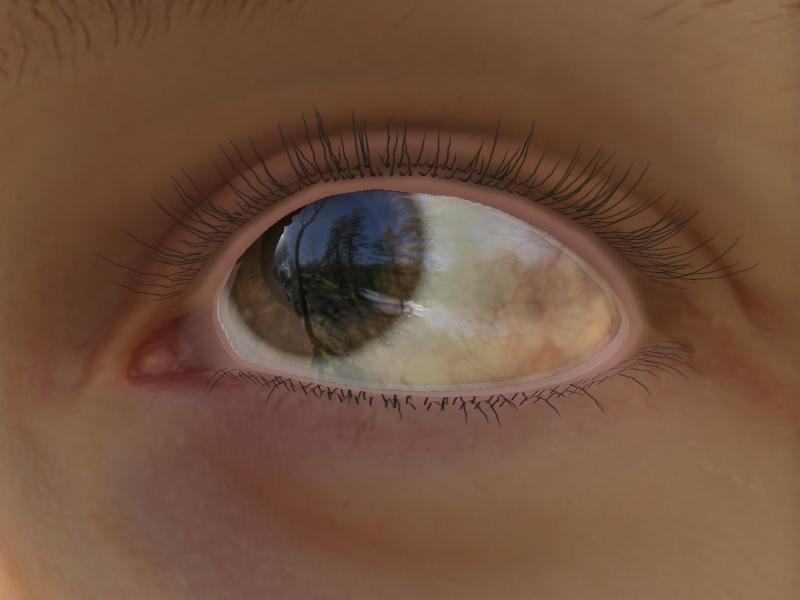eye: (231, 190, 426, 357)
